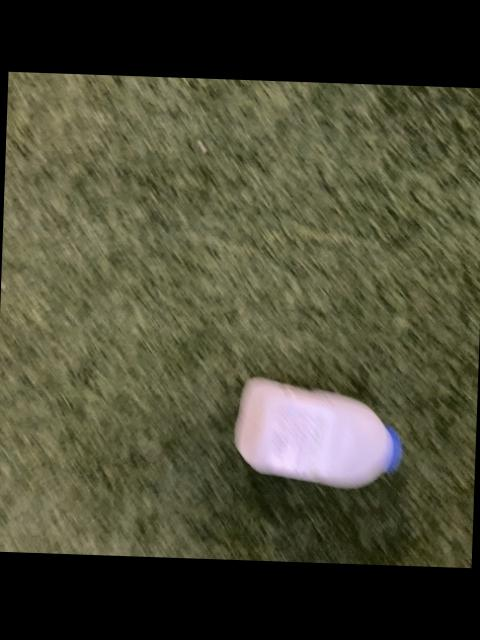plastic: (236, 376, 403, 486)
